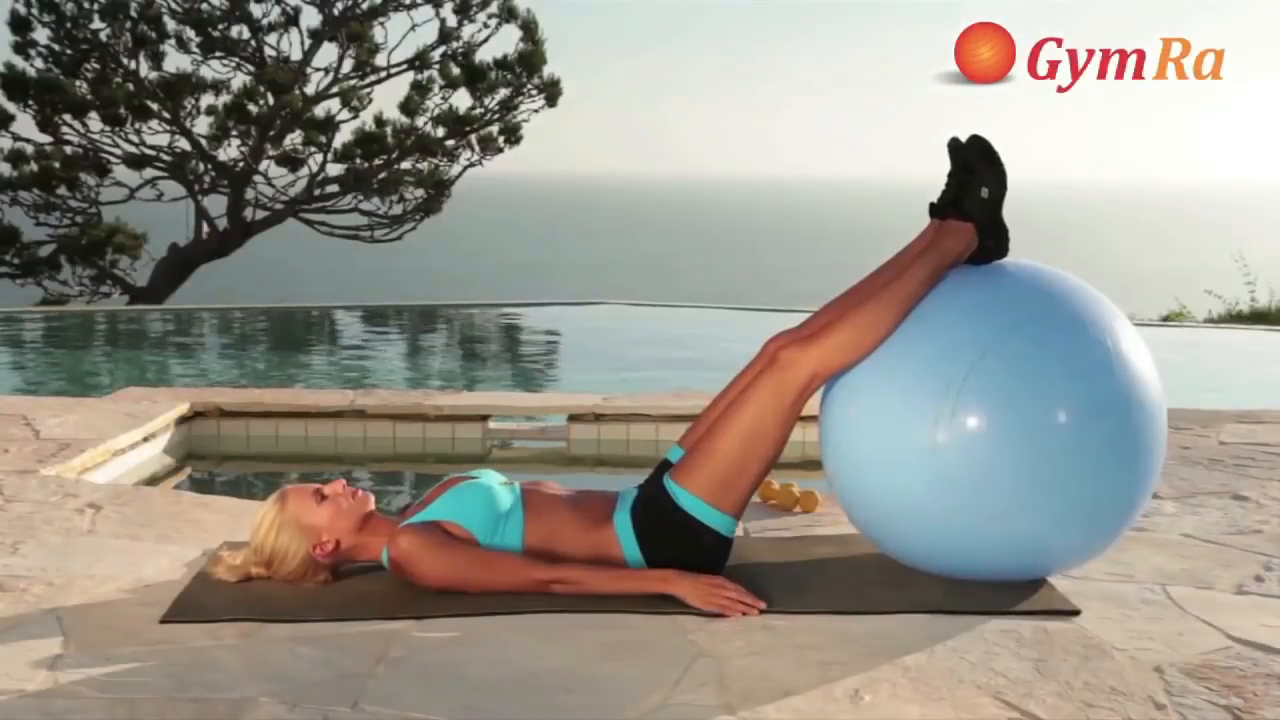yogaball: (813, 251, 1178, 591)
